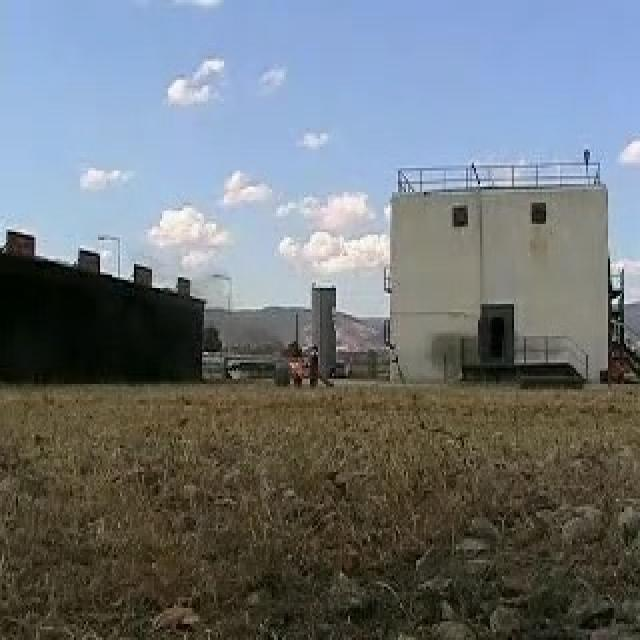fire: (285, 356, 309, 380)
